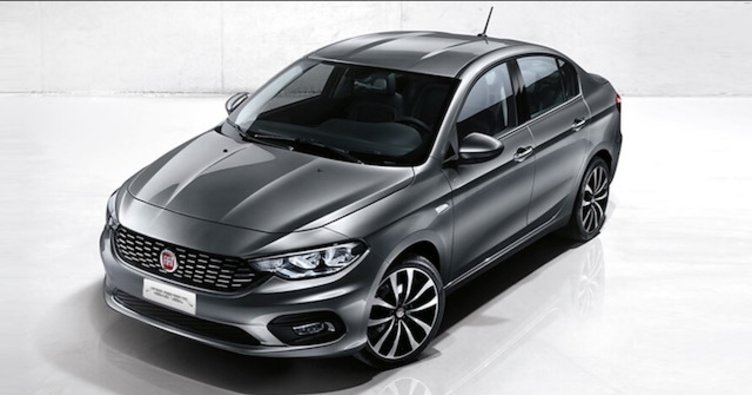araba: (99, 30, 623, 368)
